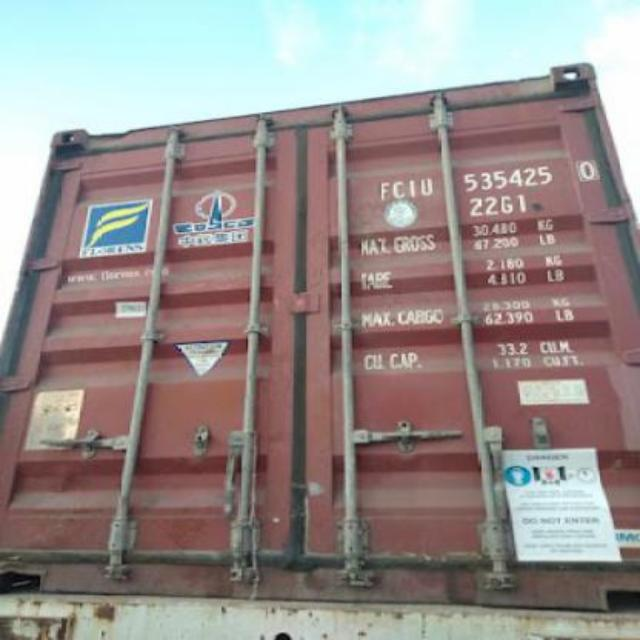0: (574, 157, 602, 181)
2: (524, 166, 538, 188)
3: (480, 172, 492, 192)
4: (508, 168, 524, 190)
5: (536, 165, 554, 187), (462, 172, 478, 194), (492, 170, 508, 190)
C: (390, 180, 406, 200)
F: (380, 180, 390, 202)
I: (408, 178, 416, 200)
U: (420, 178, 434, 198)
